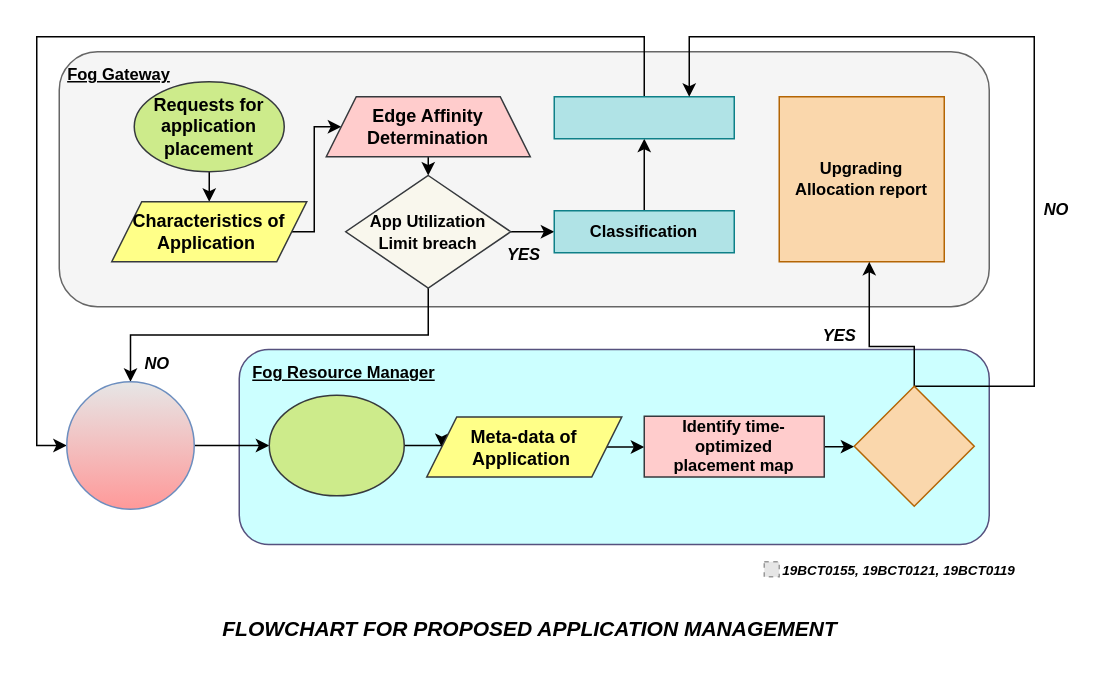
Some shapes in this 1106 by 678 pixel diagram are drawn without their labels. Grey dashed boxes stand in for pictures. The shapes that lost their labels are listed below. From the top down, each one's box as (x1, y1, x2, y2) in pixels, then its label:
(553, 95, 734, 139): Selection
(65, 380, 194, 509): Implementation Transfer
(268, 394, 404, 496): Receive references of applications
(853, 385, 974, 506): Successful Allocation
